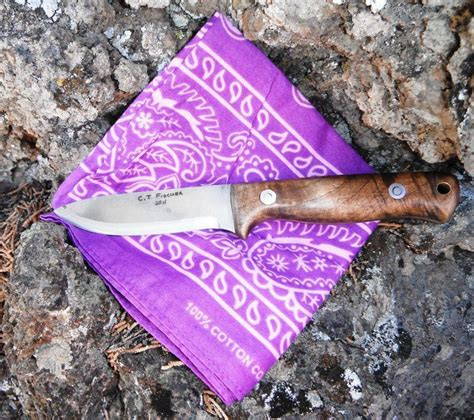knife: (50, 172, 461, 235)
